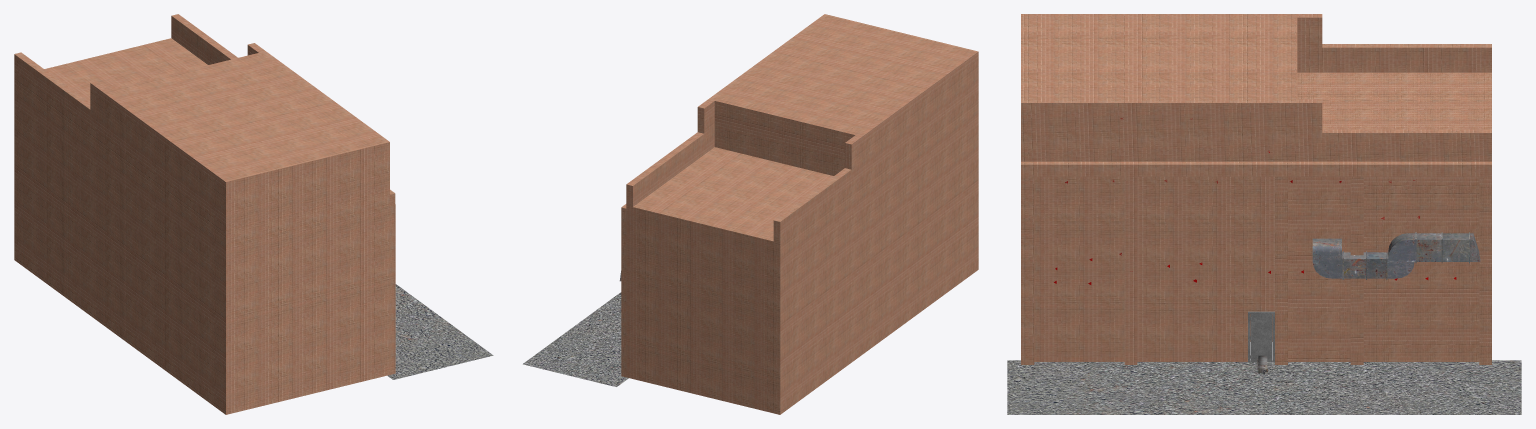
The picture shows the model from 3 angles, left to right: view 1: azimuth 30°, elevation 25°; view 2: azimuth 150°, elevation 25°; view 3: azimuth 270°, elevation 25°; orthographic projection. The views are drawn at different scales.
Visible parts, largest first — view 1: building_01, road_01; view 2: building_01, road_01; view 3: building_01, road_01, ventPipe_01, door_01.
Boxes of the visible parts, box(x1,y1,x2,y2) form: building_01: box(14, 14, 395, 414); road_01: box(387, 284, 493, 379); building_01: box(621, 14, 978, 414); road_01: box(523, 292, 628, 386); building_01: box(1021, 14, 1491, 364); road_01: box(1007, 360, 1521, 414); ventPipe_01: box(1312, 232, 1480, 279); door_01: box(1248, 311, 1274, 362).
Size of what is drawn, in the model's own units: 15.54 by 14.01 by 23.77.
Materials: 5 (5 with a texture image).
